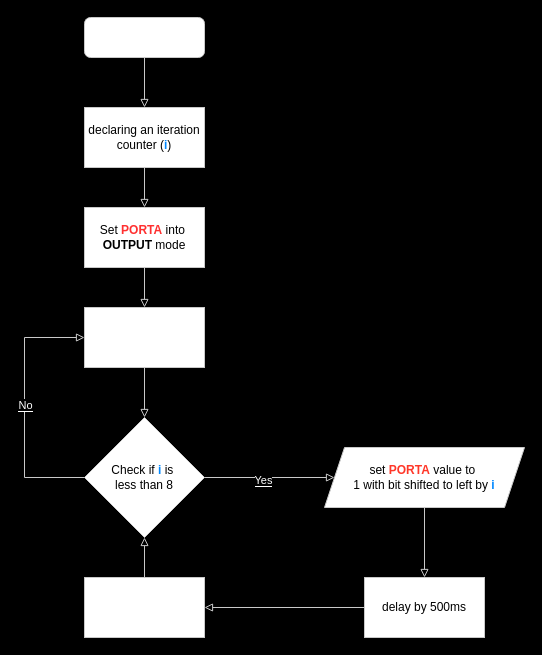
This 542x655 diagram has some shape labels left out. Here are the shapes that lost their labels. From the top down, the box of each, then its label:
(84, 16, 204, 58): START
(84, 306, 204, 368): set value of i to 0
(84, 576, 204, 638): increment i by 1
